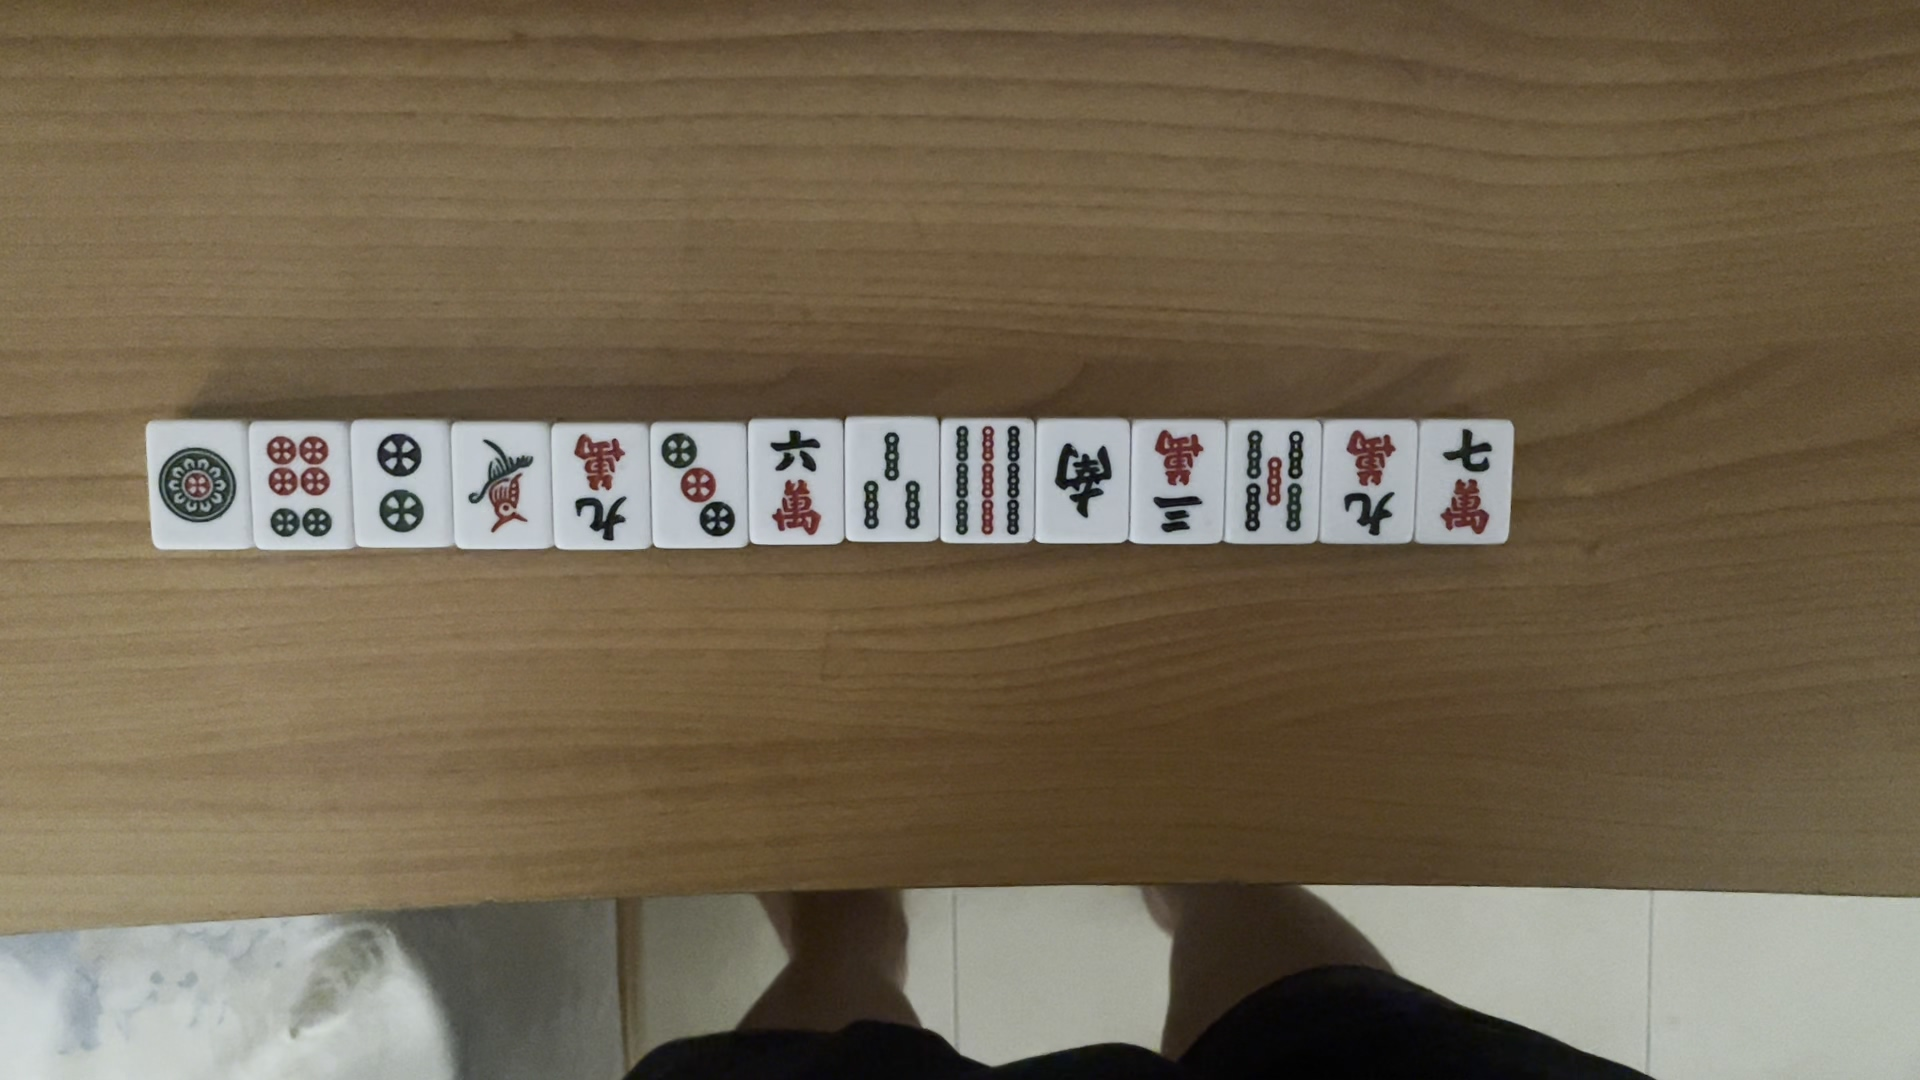b-1: (462, 433, 539, 531)
b-3: (861, 427, 931, 538)
b-5: (1236, 425, 1309, 535)
b-9: (945, 422, 1025, 541)
c-3: (1145, 431, 1218, 538)
c-6: (764, 429, 825, 538)
c-7: (1428, 422, 1506, 541)
c-9: (560, 433, 641, 543), (1327, 427, 1407, 537)
d-1: (146, 440, 244, 531)
d-2: (368, 433, 440, 538)
d-3: (657, 427, 745, 547)
d-6: (258, 431, 344, 541)
honors-south: (1047, 434, 1118, 527)
